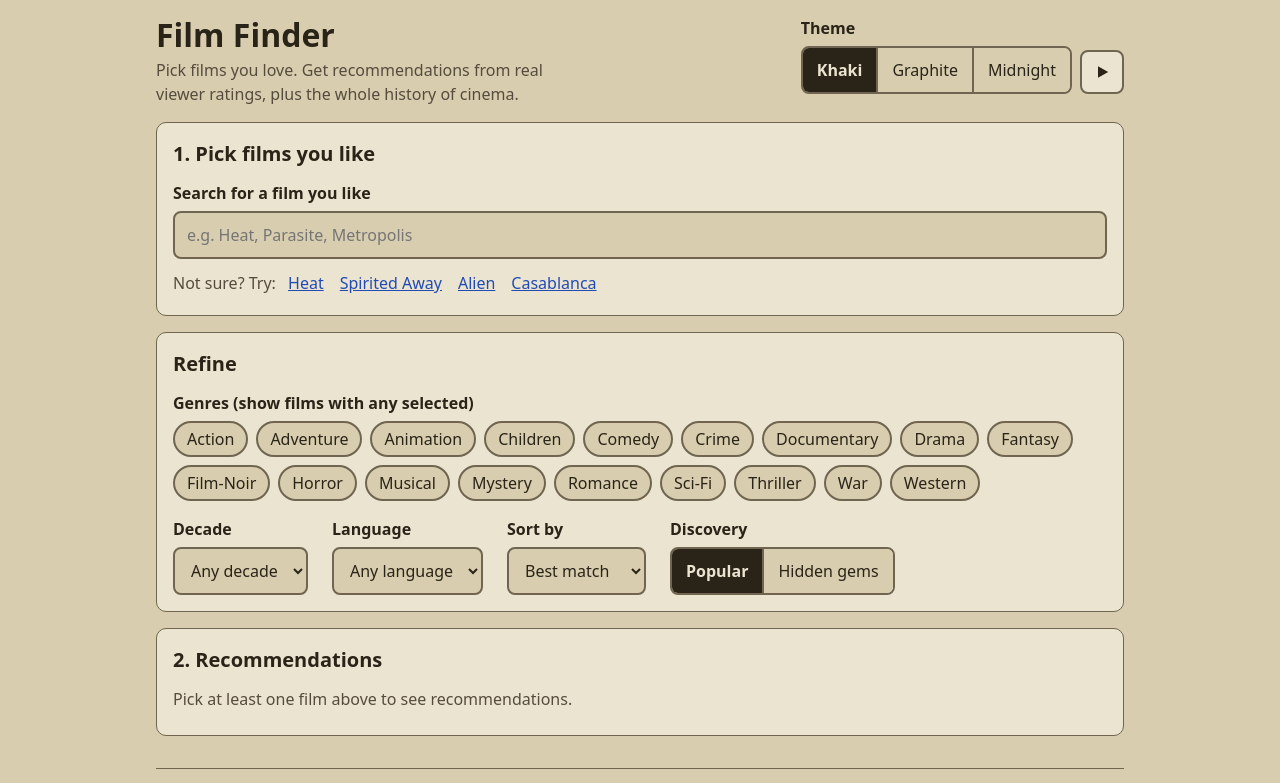
Test: App › keyboard: ArrowDown + Enter selects the highlighted suggestion
This screenshot has width=1280, height=783.
Type "toy" into the dropdown labelled "Search for a film you like".
click(640, 235); type("toy")  # box [173, 211, 1107, 259]
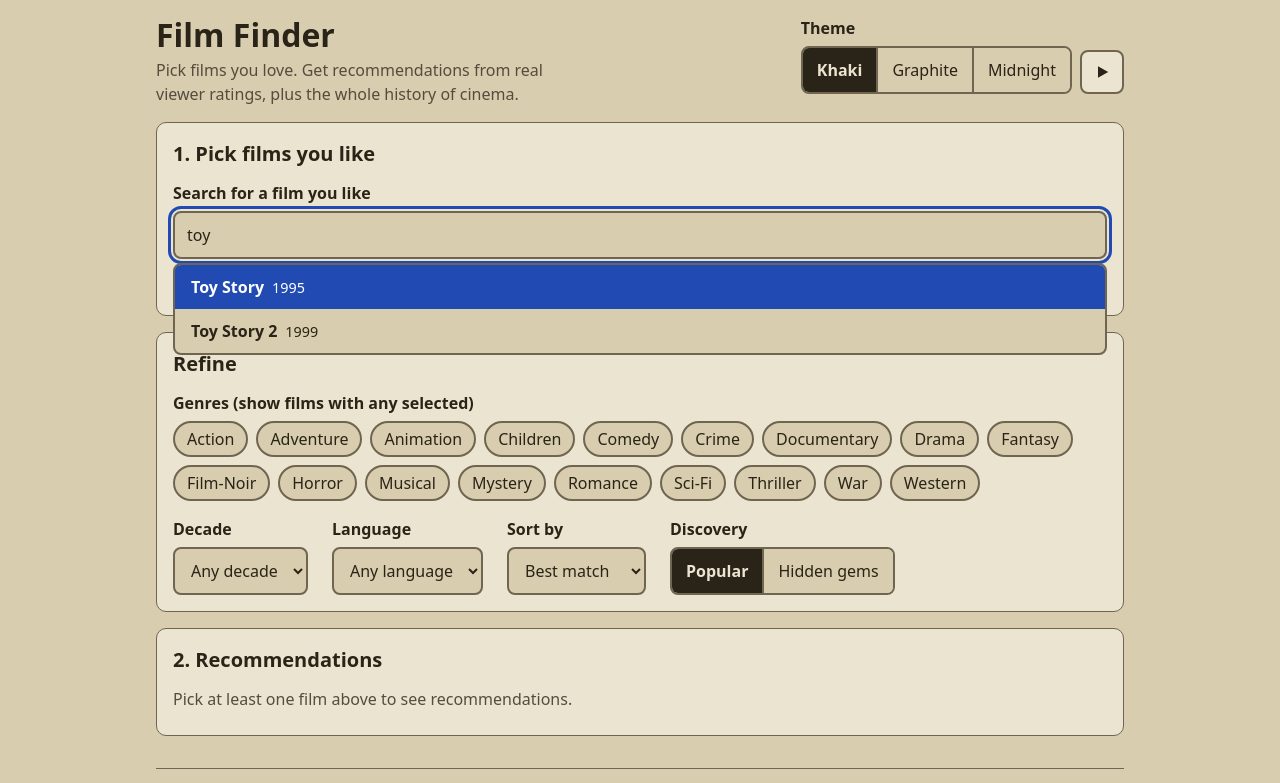
Press Arrowdown Enter
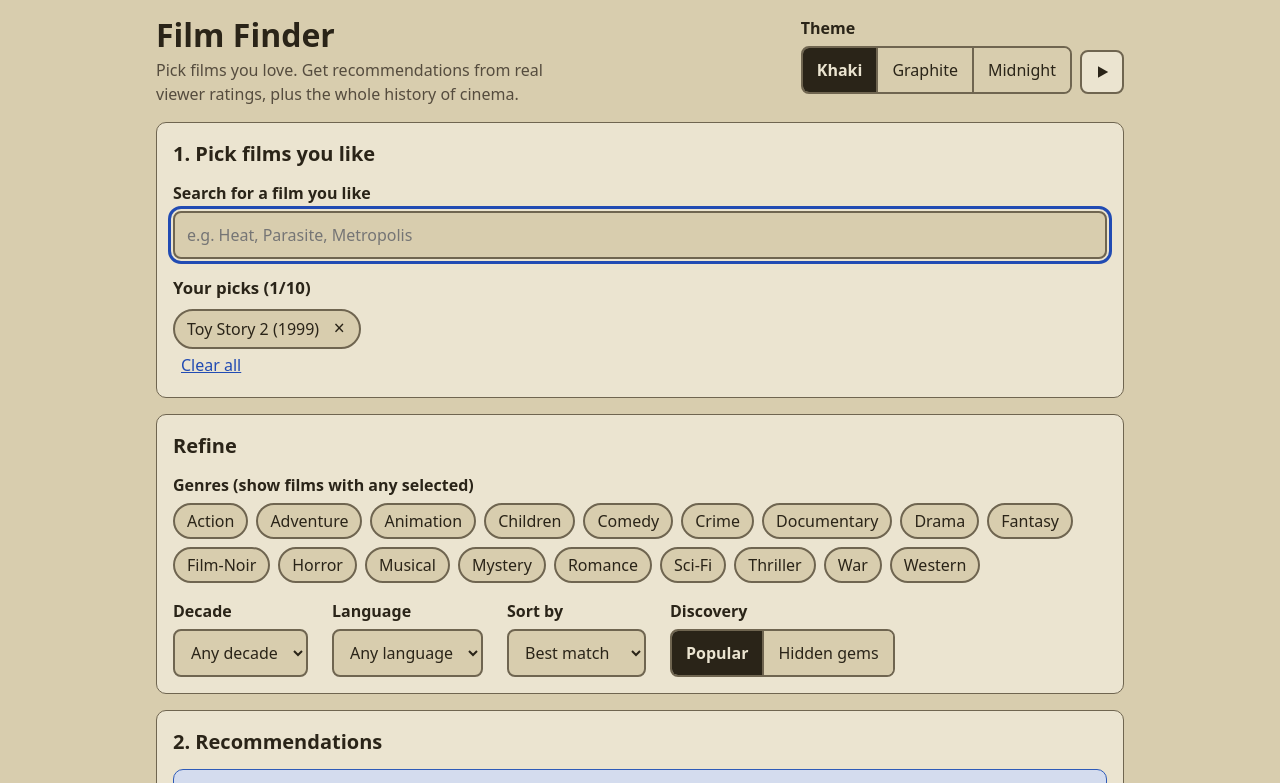
Check: the list named "Your picks" shows "Toy Story 2", box [187, 318, 269, 340]
